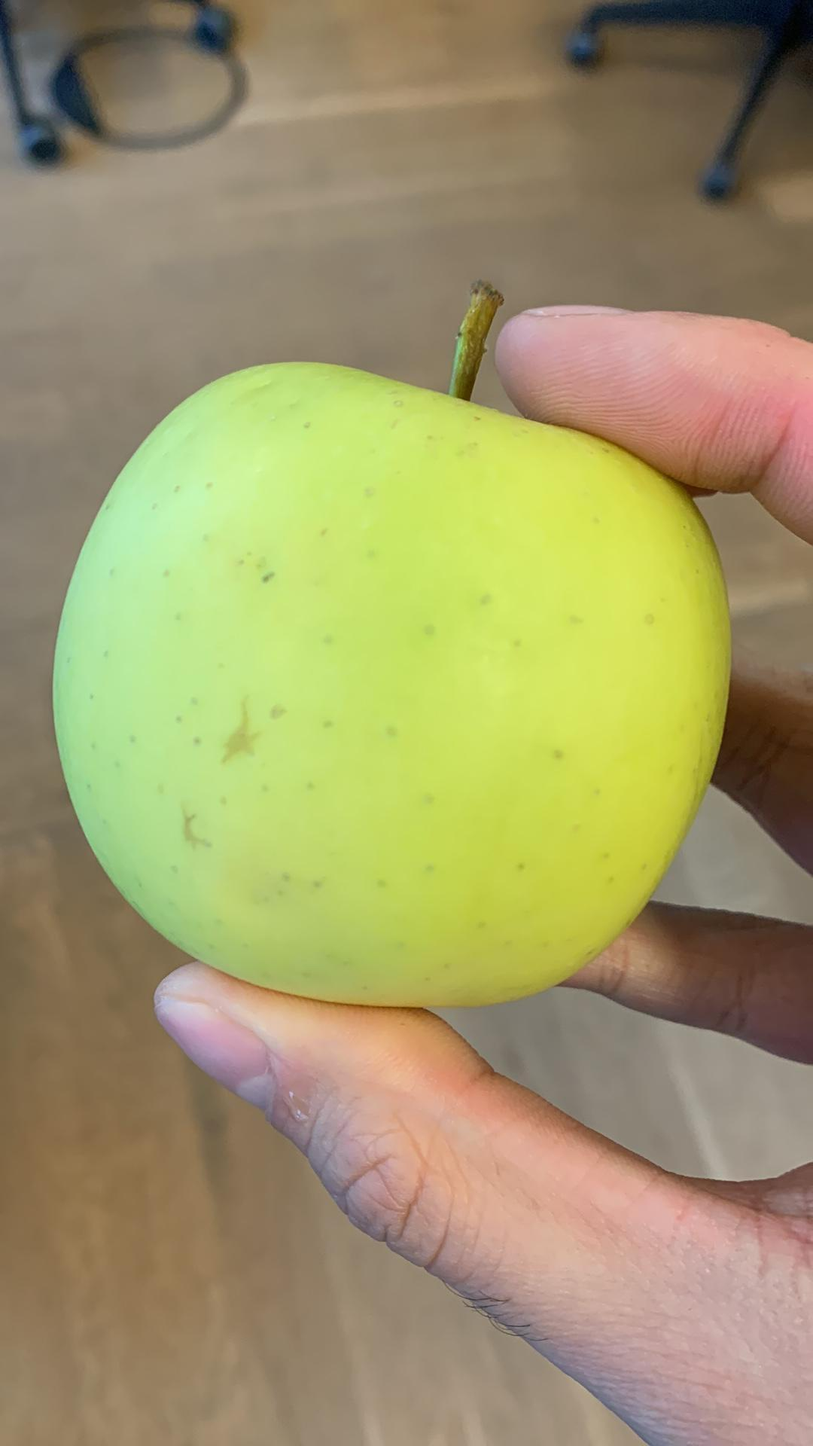apple: (51, 286, 738, 1008)
